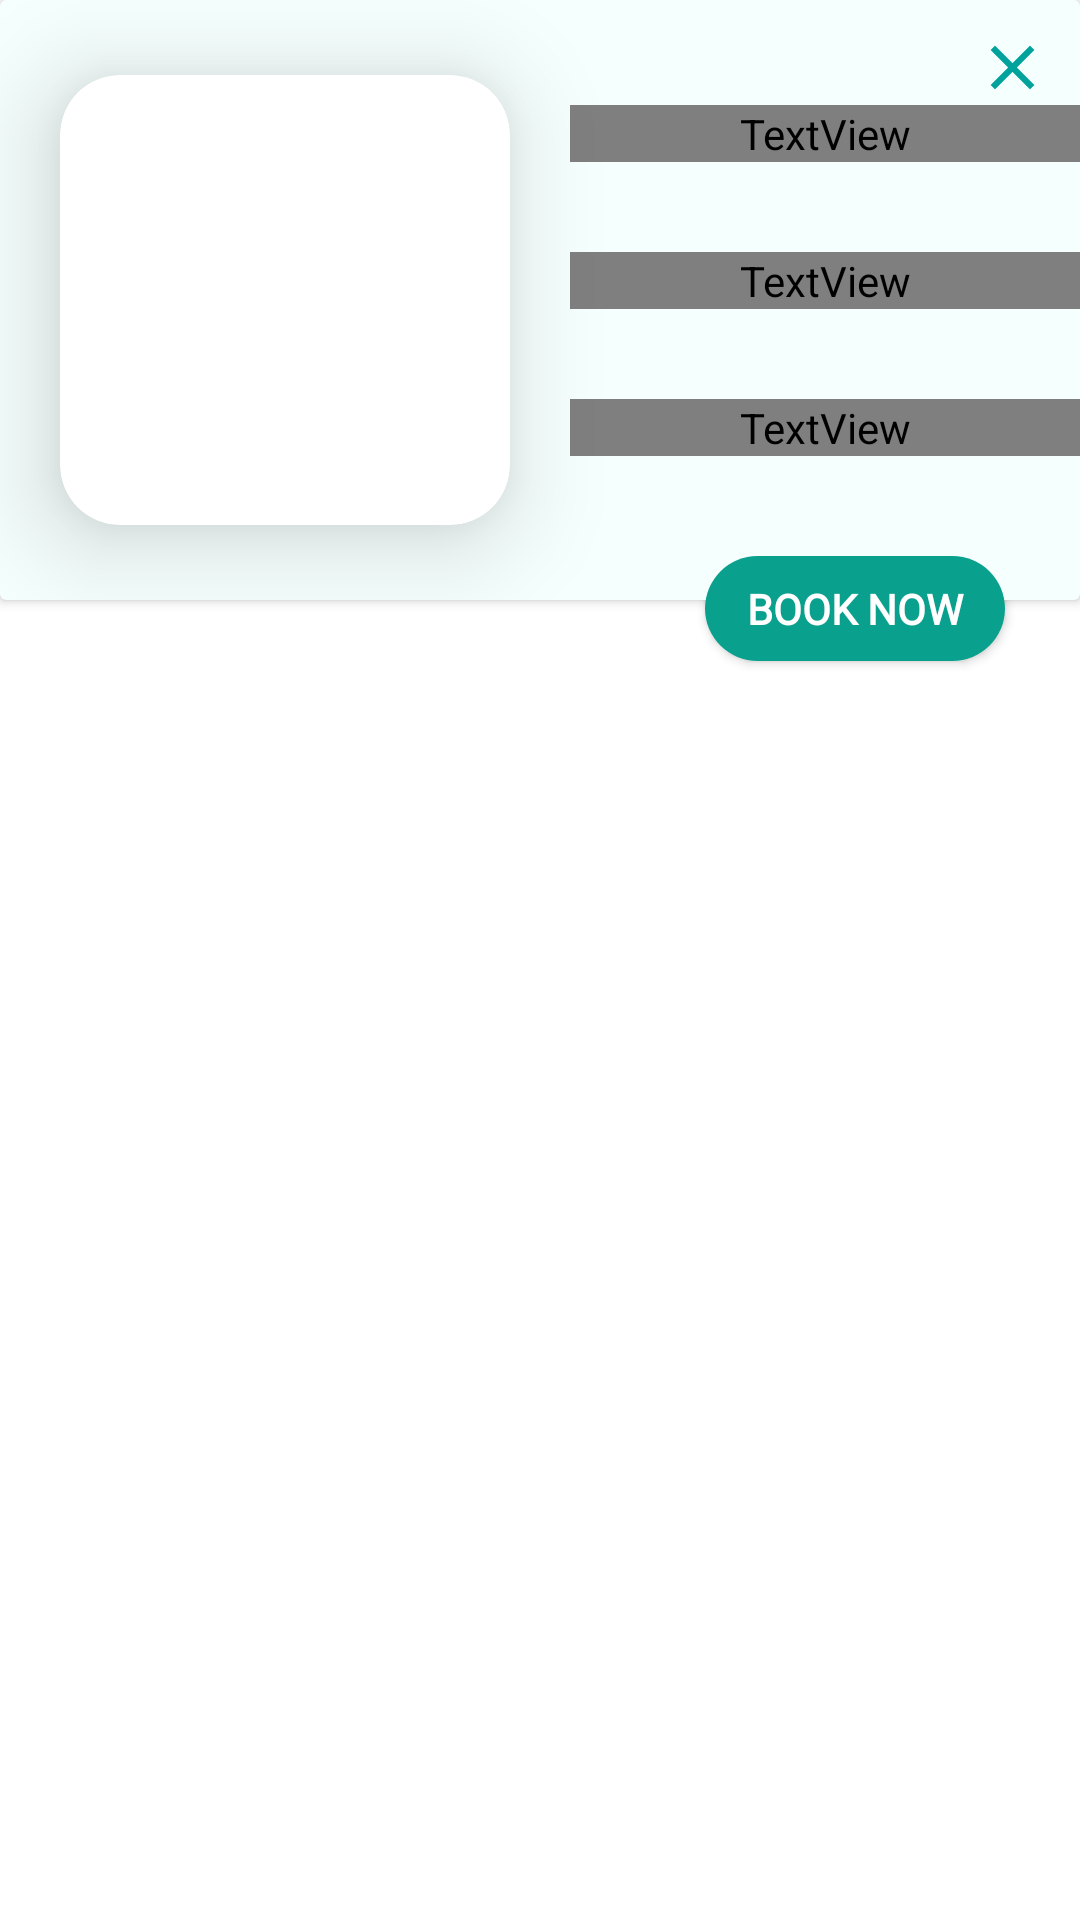

Where icons sit on this 1080 × 1920 app screen, as bbox=(x1, y1, x2, y2):
close: bbox=(991, 46, 1034, 89)
